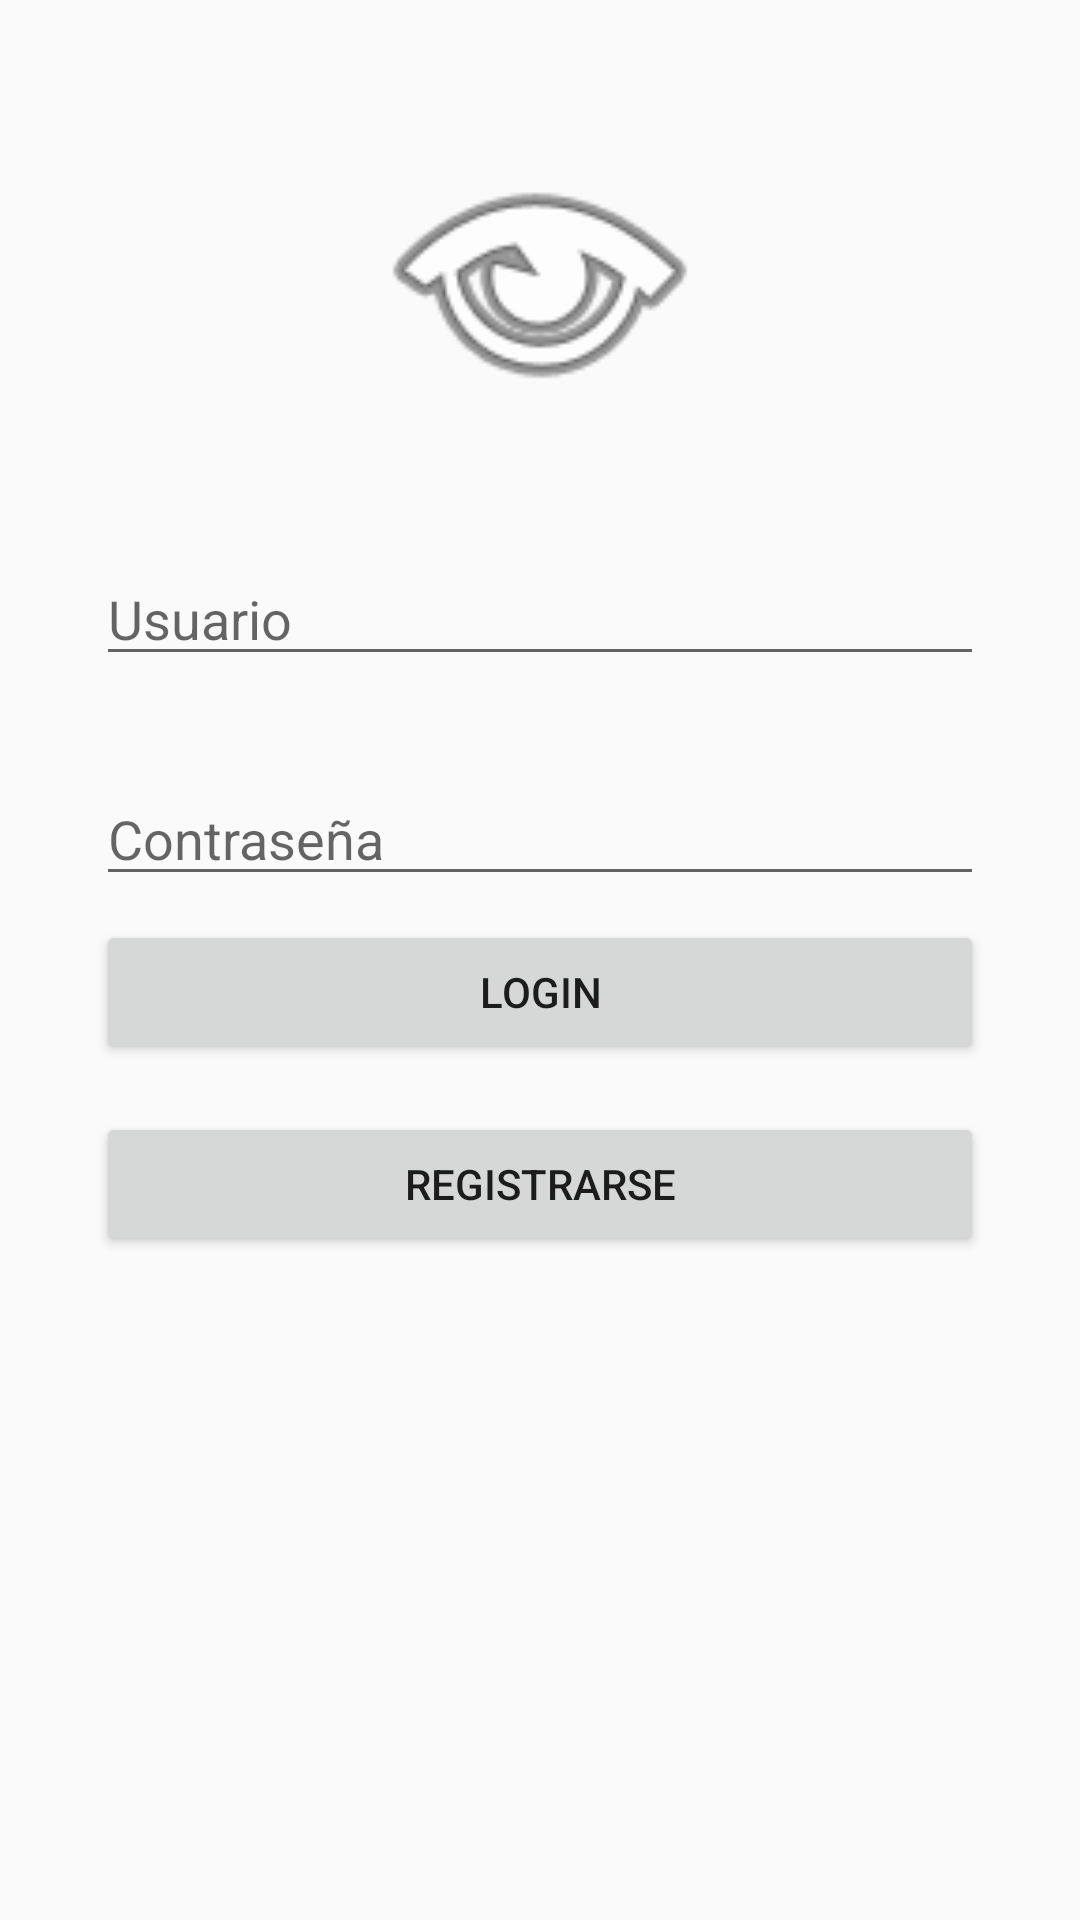

Icons on this 1080*1920 Android screen, each with the point to tap as [x,y]:
view: [540,285]
